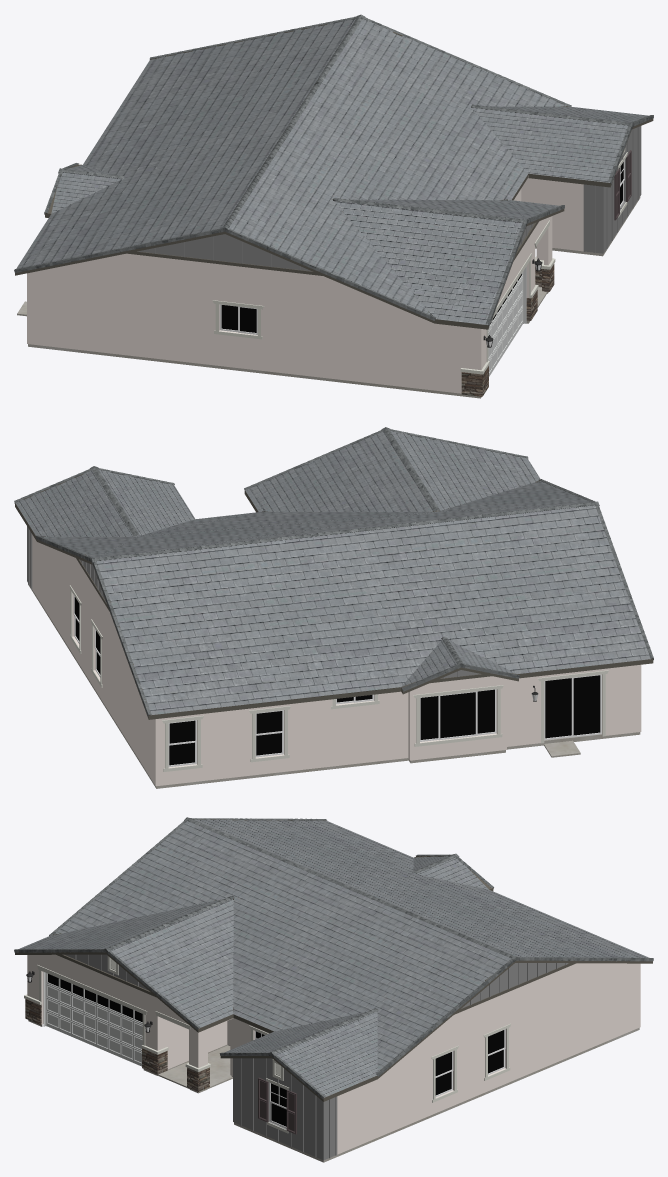
File: KBhomes_1860_elevation_ranch.glb
The picture shows the model from 3 angles, top to bottom: view 1: azimuth 30°, elevation 25°; view 2: azimuth 150°, elevation 25°; view 3: azimuth 270°, elevation 25°; orthographic projection. The views are drawn at different scales.
Visible parts, largest first — view 1: Rectangle437; view 2: Rectangle437; view 3: Rectangle437.
Part boxes in pixels (left/top/right/bottom): Rectangle437: left=14, top=14, right=653, bottom=398; Rectangle437: left=14, top=427, right=653, bottom=788; Rectangle437: left=14, top=817, right=653, bottom=1162.
Bounding box in the file's own units: 22.46 × 4.93 × 21.81.
Materials: 16 (11 with a texture image).
